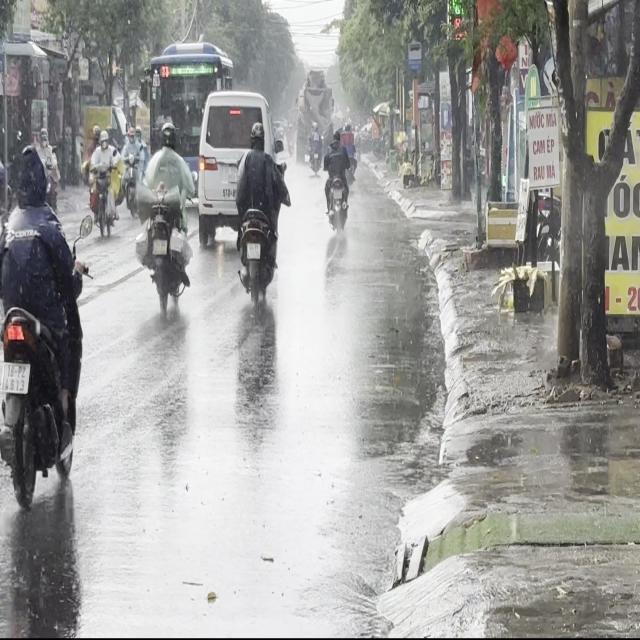helmet: (14, 143, 48, 210), (159, 118, 175, 147), (249, 120, 265, 148)
licenseplate: (0, 138, 86, 513), (134, 117, 194, 318), (233, 118, 285, 307)
nohelmet: (1, 362, 28, 392), (246, 242, 260, 258), (153, 238, 167, 253)
